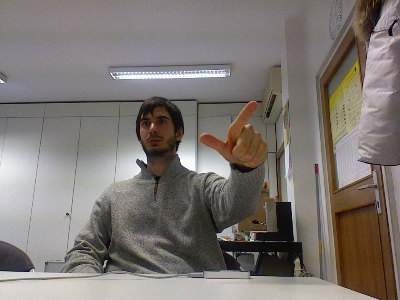枪: (198, 99, 268, 170)
